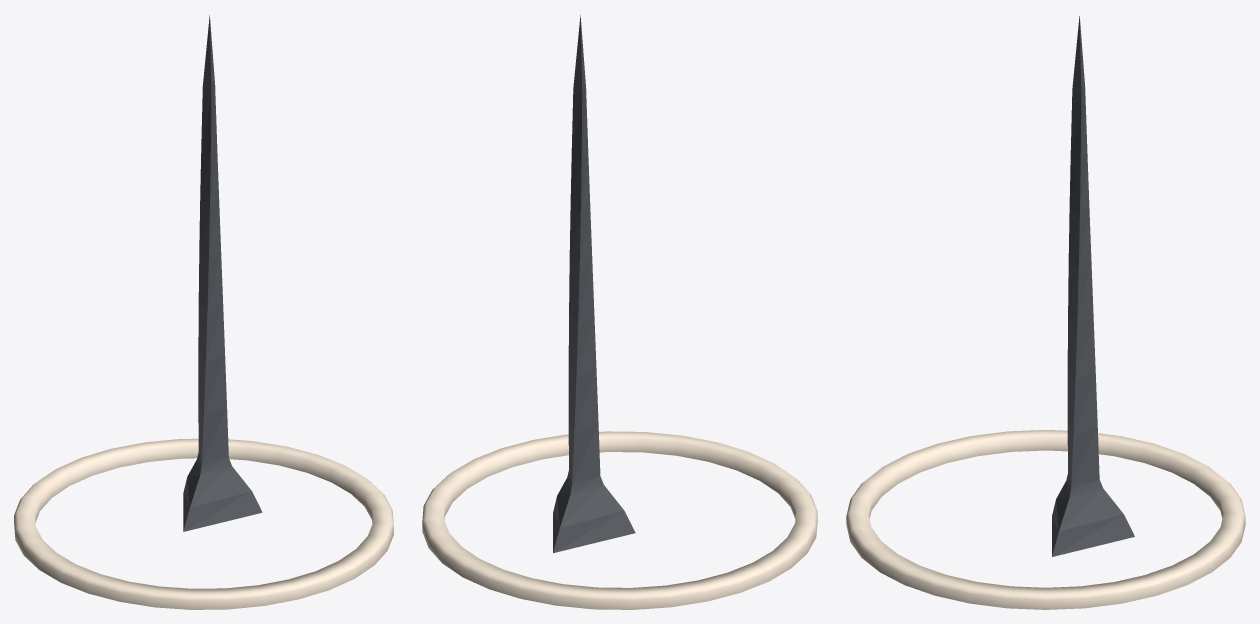
The model's file is atl-kessler-campanile.glb.
The picture shows the model from 3 angles, left to right: view 1: azimuth 30°, elevation 25°; view 2: azimuth 150°, elevation 25°; view 3: azimuth 270°, elevation 25°; orthographic projection. The views are drawn at different scales.
Parts seen in each view (by area): view 1: Kessler Campanile; view 2: Kessler Campanile; view 3: Kessler Campanile.
Boxes of the visible parts, x1,y1,x2,y2 form: Kessler Campanile: (14,15,393,609); Kessler Campanile: (422,15,817,609); Kessler Campanile: (846,16,1245,609).
Bounding box in the file's own units: 16.6 × 24 × 16.6.
